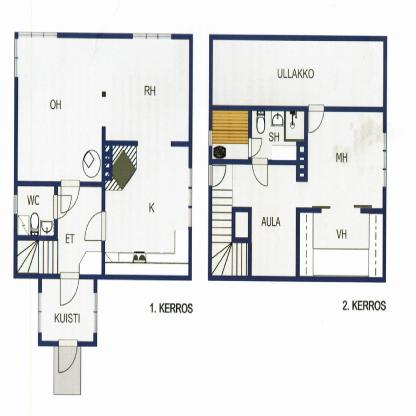door: (84, 209, 109, 244), (60, 271, 81, 306), (60, 179, 81, 213), (57, 340, 78, 372), (52, 192, 72, 221), (308, 102, 324, 134), (208, 163, 228, 188), (252, 158, 269, 186), (249, 137, 262, 155)
window: (19, 30, 58, 40), (188, 170, 192, 228), (132, 32, 170, 38), (383, 132, 387, 187), (37, 292, 41, 332), (14, 39, 18, 78), (93, 292, 97, 331), (14, 194, 18, 213), (209, 130, 212, 146)
zone: (17, 34, 188, 274), (212, 109, 382, 274), (212, 39, 382, 106), (18, 186, 101, 273), (41, 278, 93, 340), (252, 110, 304, 163), (212, 109, 248, 159), (18, 184, 53, 235), (286, 112, 304, 141)
